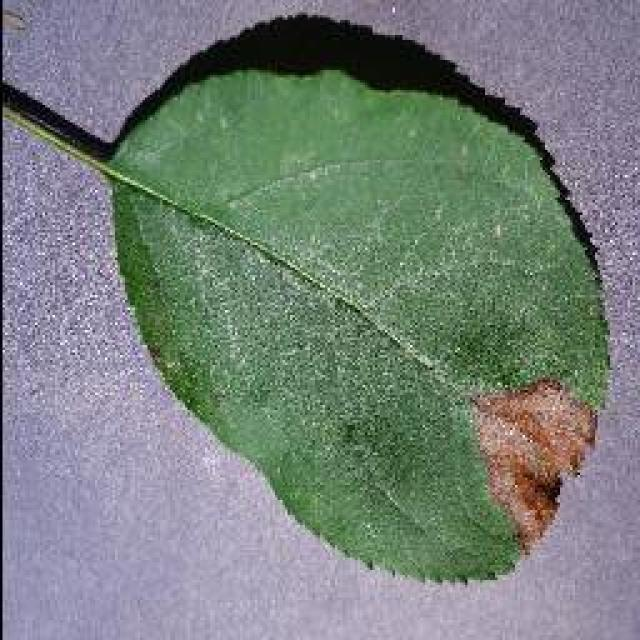Black_rot: (2, 7, 612, 585)
